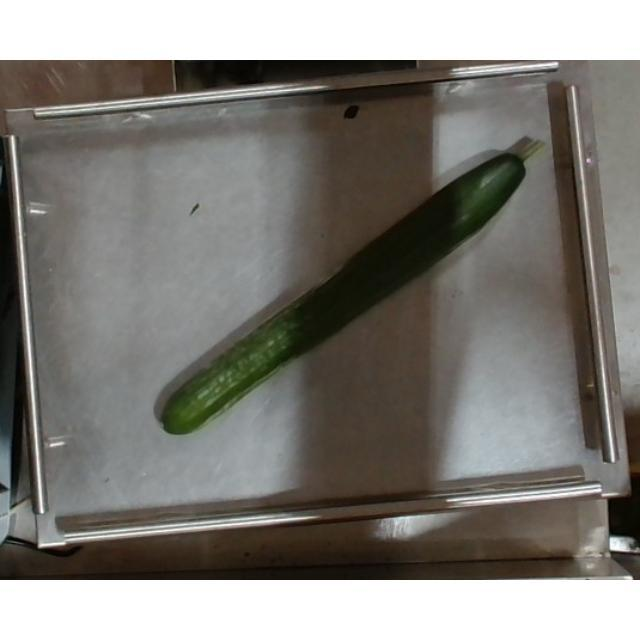cucumber: (158, 135, 548, 439)
